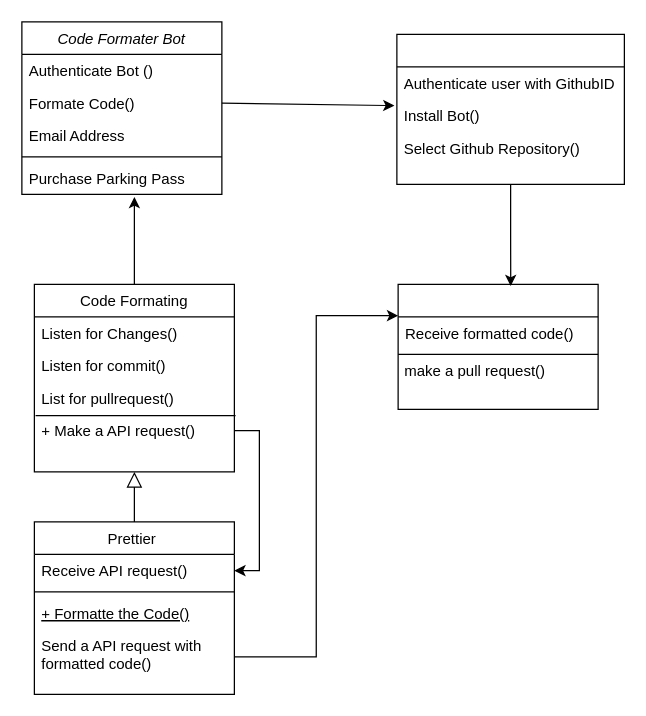
Image size: 646x716. Some labels were removed from this diagram. Here are the shapes that lost their labels. From the top down, the box of each, then its label:
(396, 33, 624, 184): Authentication
(397, 283, 598, 409): Merge Formatted Code
